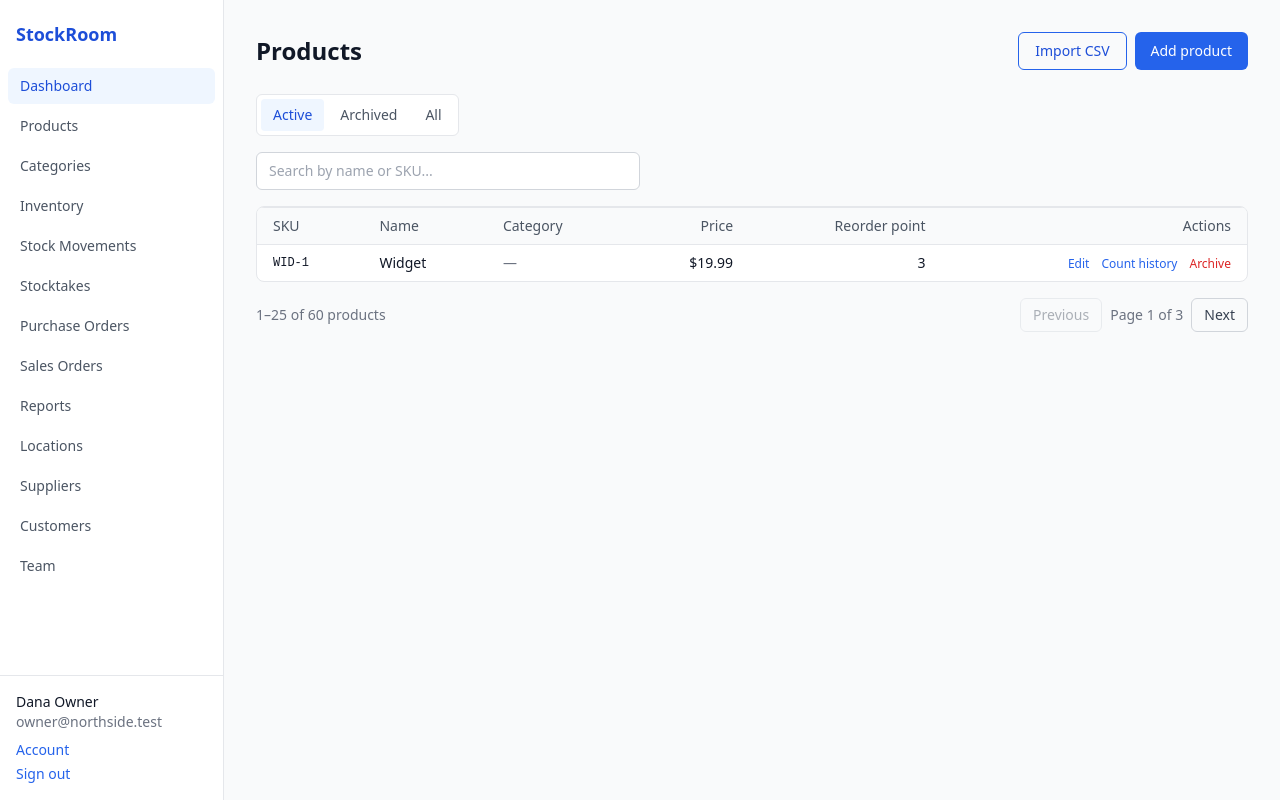
Test: ProductsPage search and status tabs › switches tabs and resets to page 1
Check: the text "Widget" is shown, box [364,244,487,281]
Click the button "Archived". click: click(369, 115)
box: [328,99,409,131]
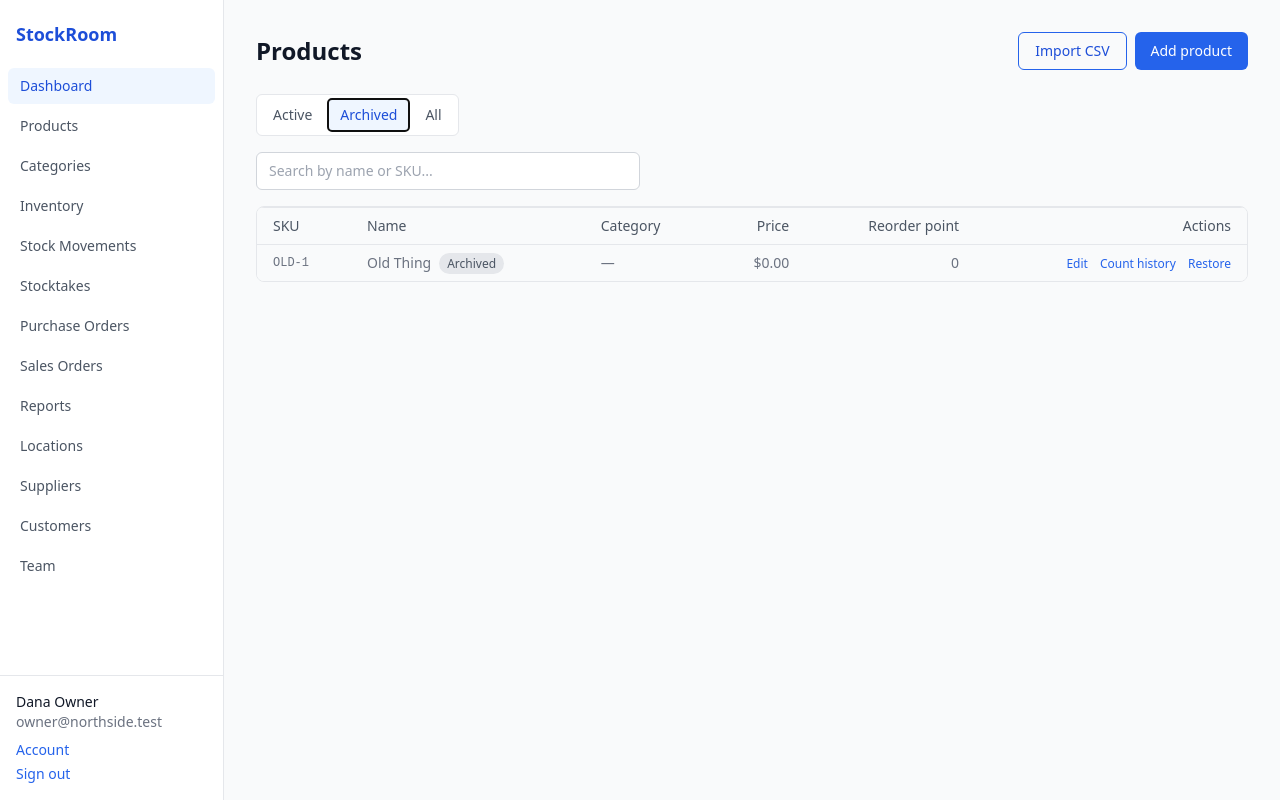
Check: the text "Old Thing" is shown, box [367,253,431,272]
